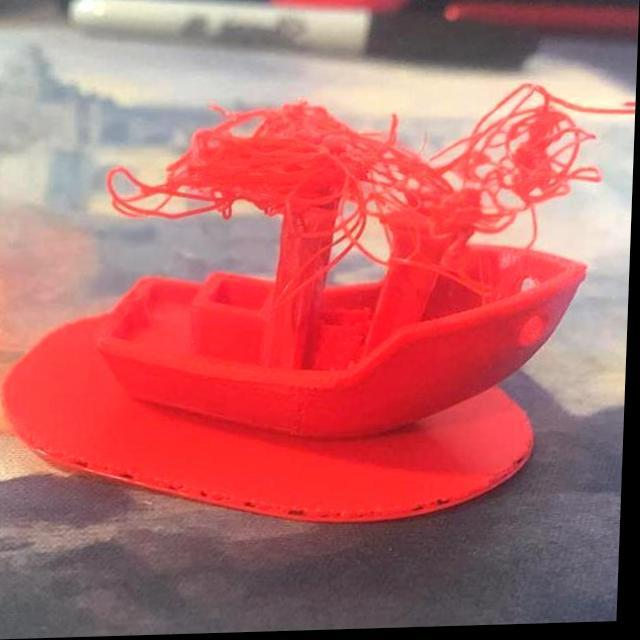spaghetti: (317, 140, 483, 265), (451, 96, 600, 219), (111, 160, 229, 227)
